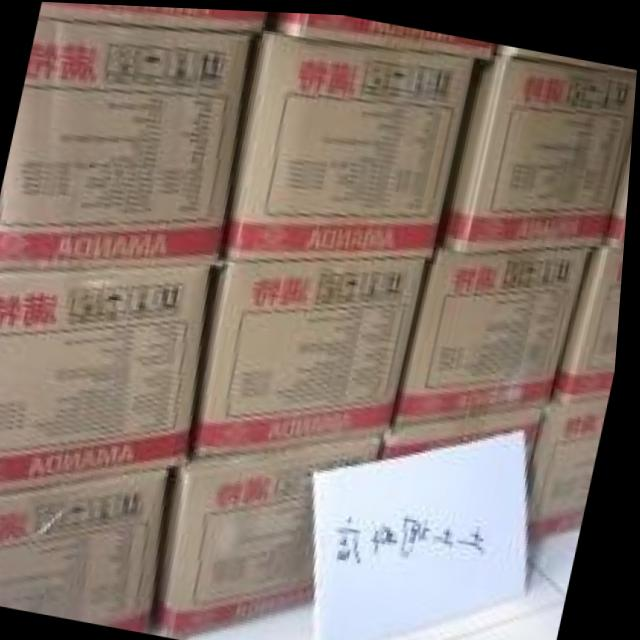box: (0, 15, 256, 270), (223, 22, 479, 258), (0, 260, 213, 493), (200, 254, 434, 457), (162, 425, 386, 637), (398, 231, 598, 427), (442, 51, 637, 250), (0, 460, 176, 629), (382, 394, 558, 484), (534, 385, 615, 538), (558, 233, 627, 403), (265, 9, 491, 53), (42, 2, 266, 25), (495, 40, 637, 71), (608, 130, 634, 244)
